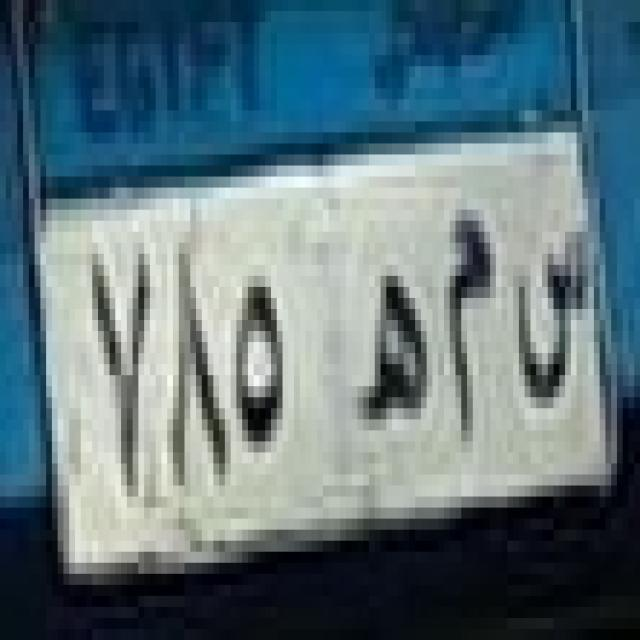5: (229, 264, 295, 474)
7: (88, 232, 158, 508)
8: (166, 223, 227, 490)
Heeh: (356, 258, 436, 444)
Meem: (440, 204, 502, 466)
Seen: (508, 231, 588, 428)
